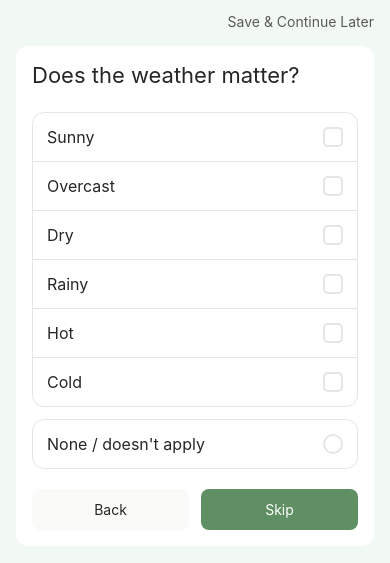
Scenario: GuidedSetupScreen › sequential mode: offers Weather, Season and TimeOfDay as three separate cards
Expected: the text "Does the weather matter?" is shown, top-left (32, 62), bottom-right (300, 88)
Click the text "Skip" at (280, 510), box top-left (265, 501), bottom-right (294, 518)
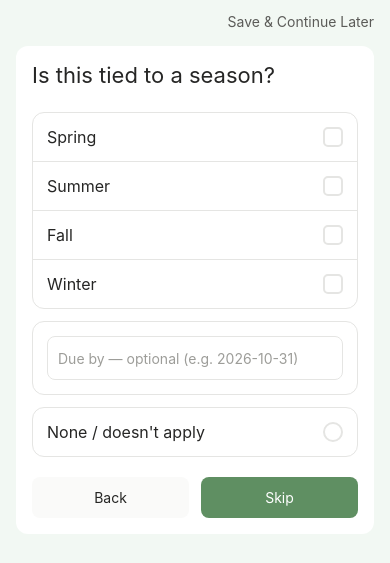
Expected: the text "Is this tied to a season?" is shown, top-left (32, 62), bottom-right (275, 88)
Click the text "Skip" at (280, 498), box top-left (265, 489), bottom-right (294, 506)
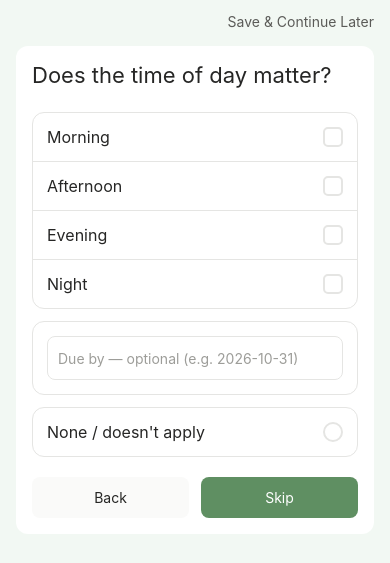
Expected: the text "Does the time of day matter?" is shown, top-left (32, 62), bottom-right (358, 88)
